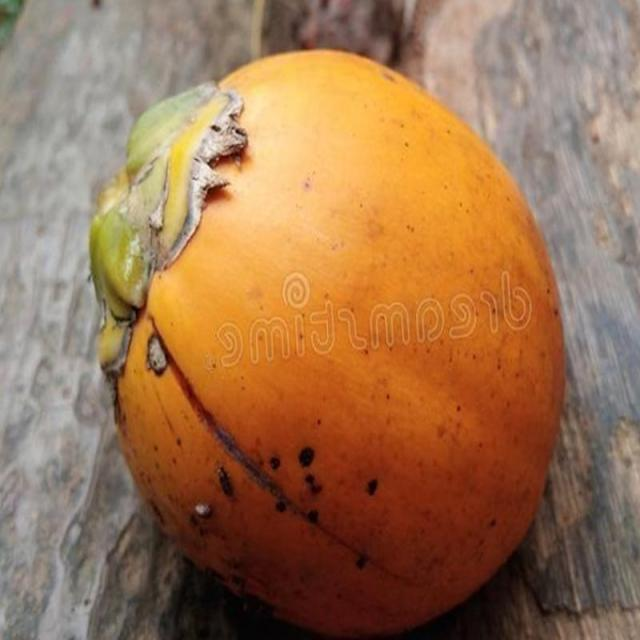good: (89, 50, 566, 639)
